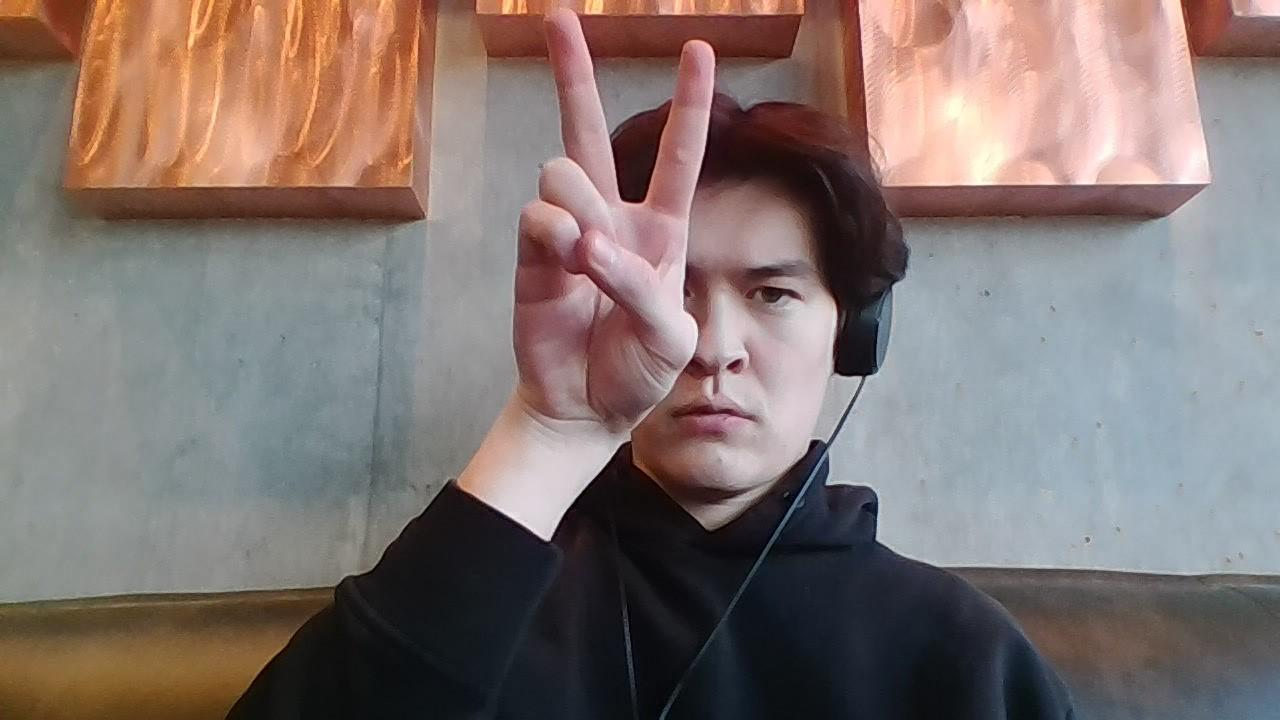peace: (513, 5, 719, 427)
